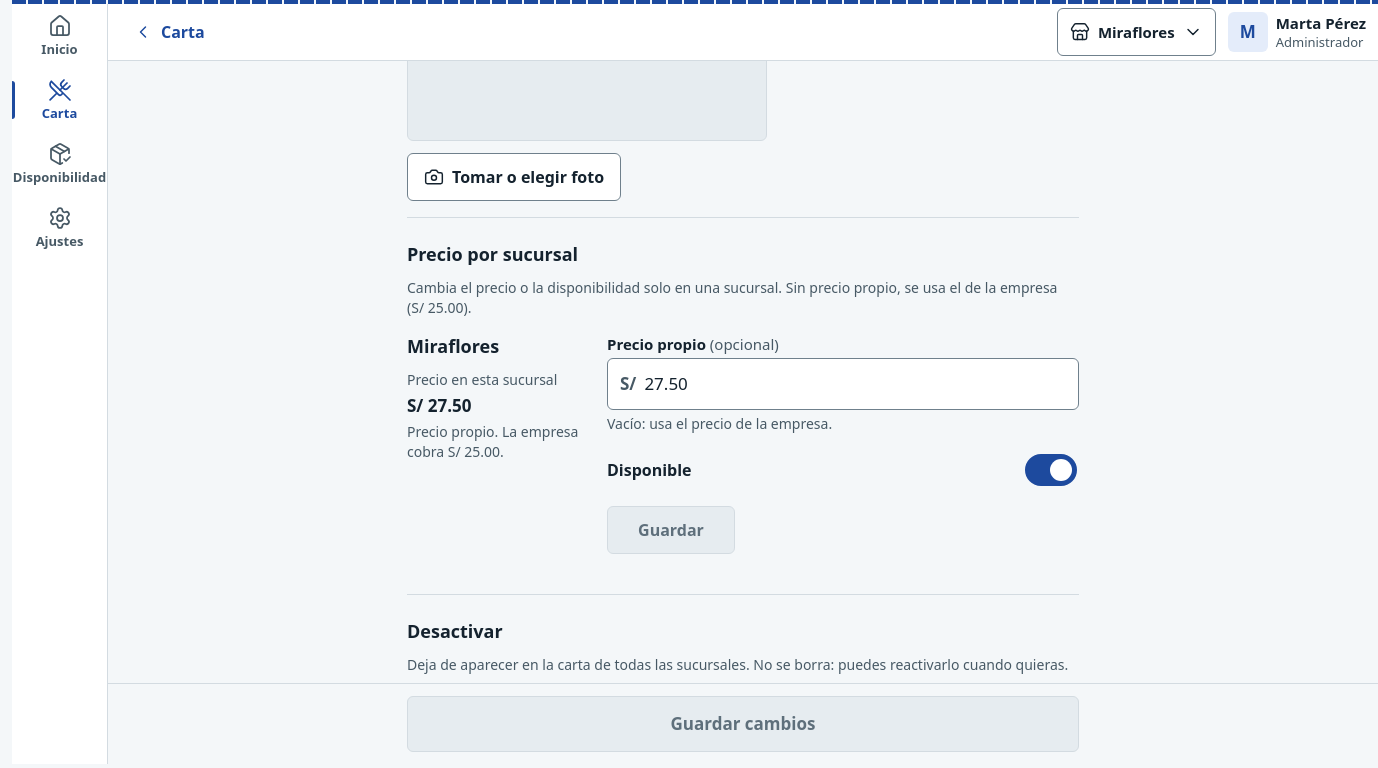
precio por sucursal: guardar una fila › con el campo vacío envía precio null (usa el de la empresa)
(page scrolled)
Clear the field named "Precio propio en Miraflores": [857, 384] box [636, 360, 1078, 408]
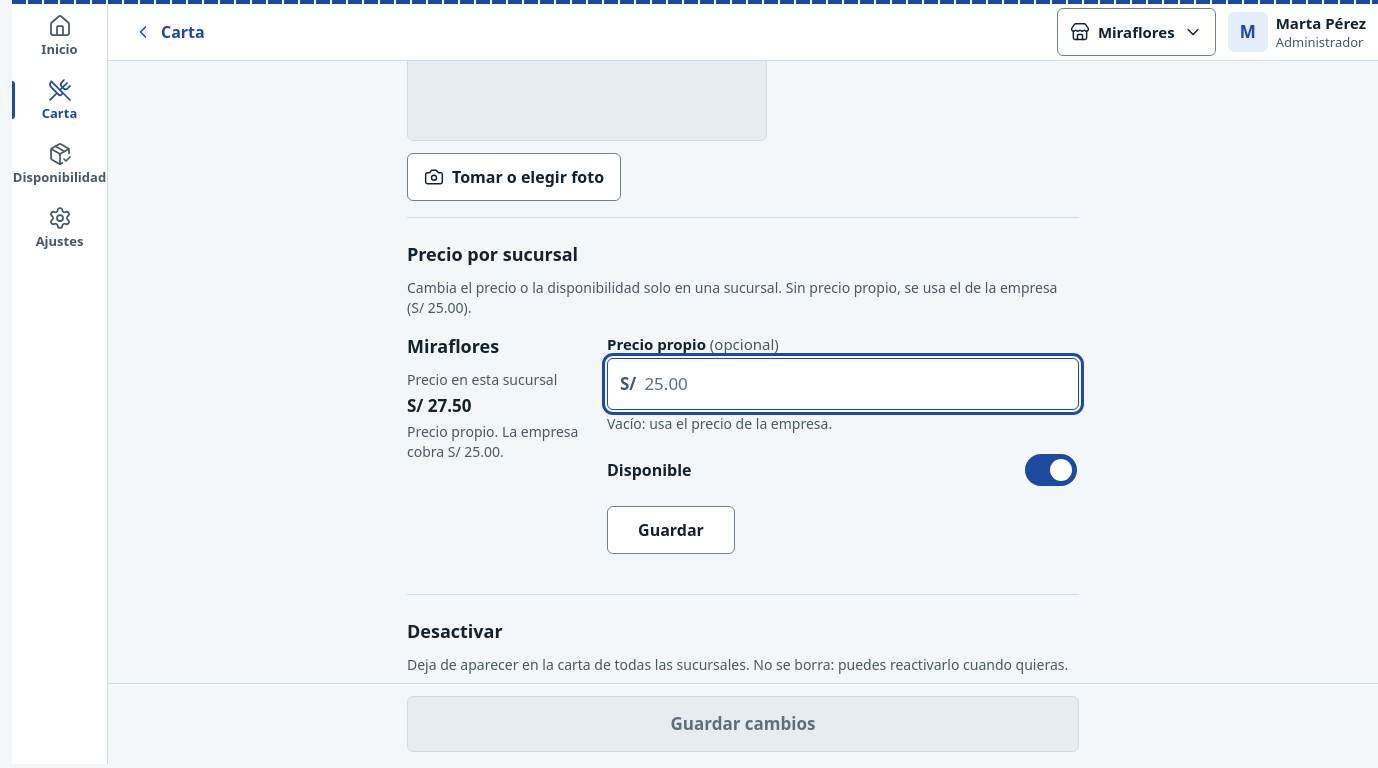
Click the button with aria-label "Guardar Miraflores": [671, 530] box [607, 506, 735, 554]
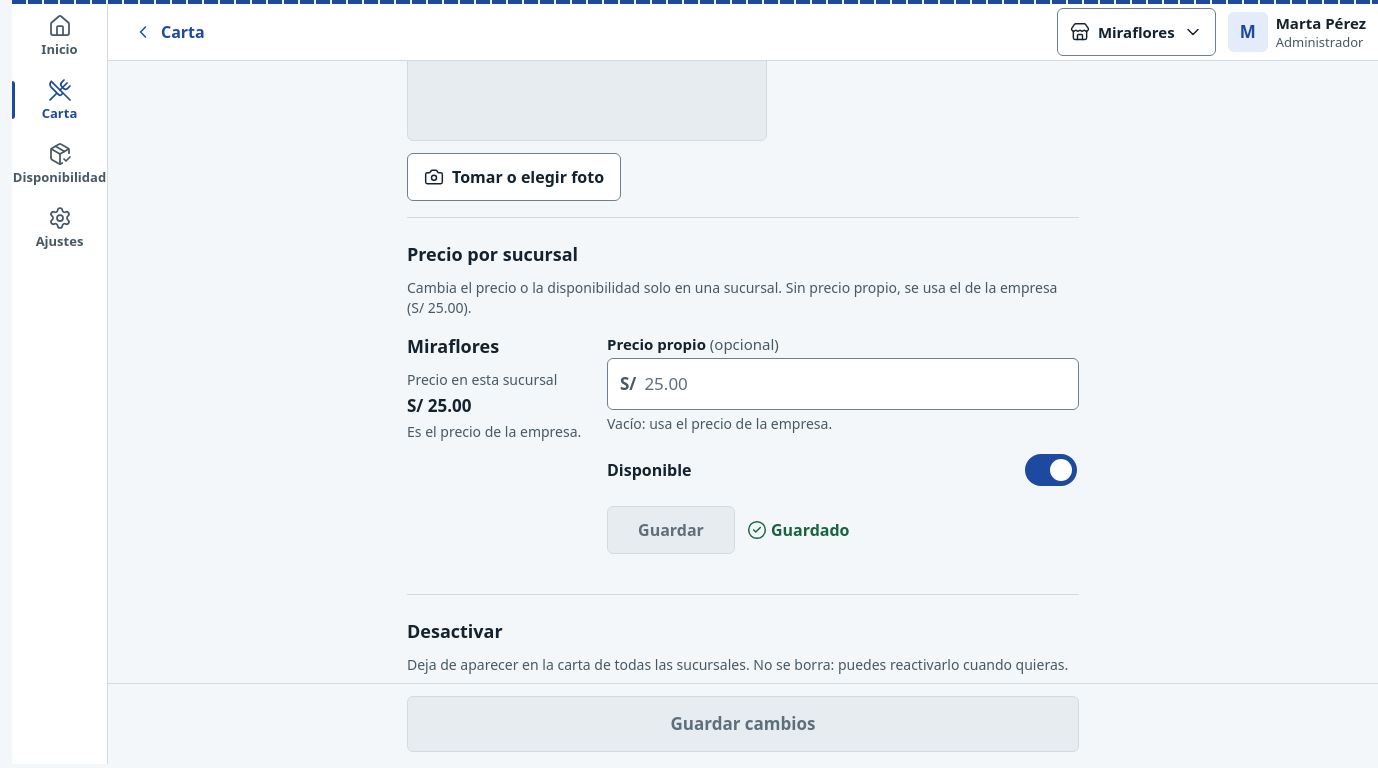
Check: the text "S/ 25.00" is shown, box [407, 394, 472, 418]
Check: the text "Es el precio de la empresa." is shown, box [407, 422, 581, 442]
